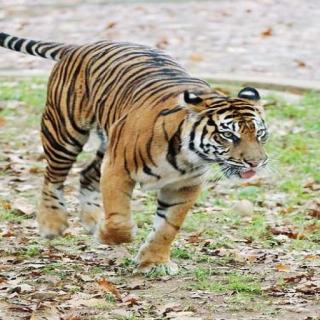Tiger: (0, 9, 276, 303)
